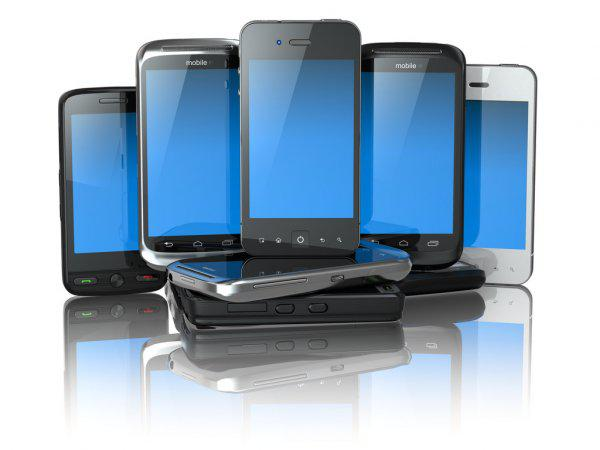mobile: (239, 20, 360, 257), (135, 39, 240, 263), (362, 42, 463, 267), (59, 87, 166, 295), (466, 63, 537, 286)
